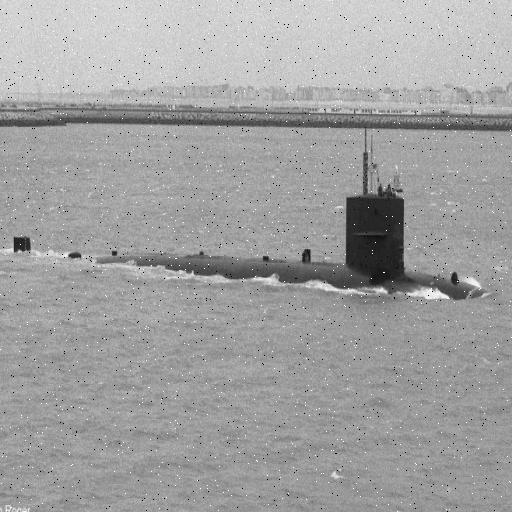submarine: (13, 130, 490, 298)
